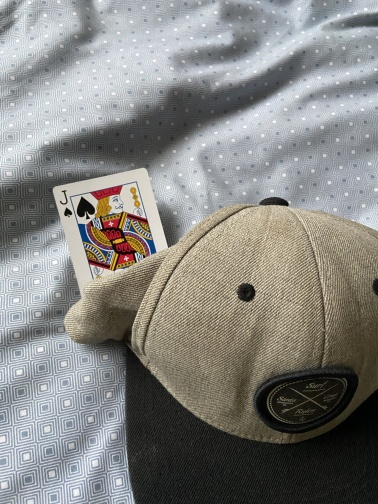jack: (51, 166, 180, 334)
